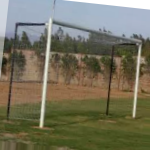goals: (6, 18, 145, 132)
